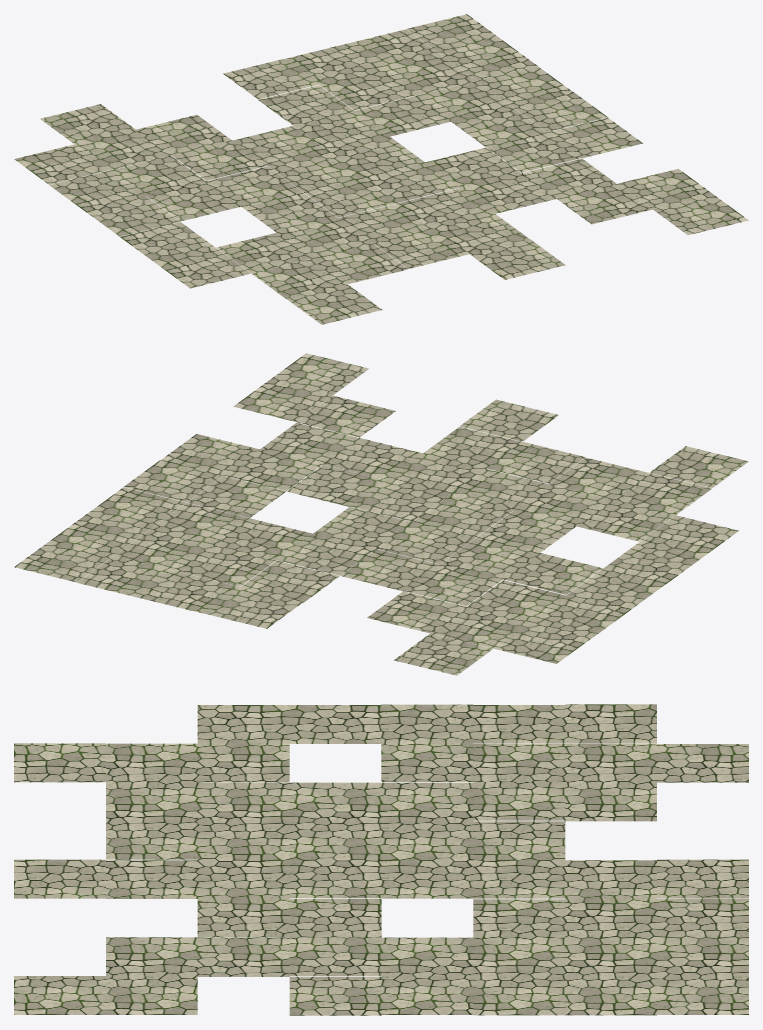
Rendered from ruin-paving.ruins-v1.lod0.glb.
The picture shows the model from 3 angles, top to bottom: view 1: azimuth 30°, elevation 25°; view 2: azimuth 150°, elevation 25°; view 3: azimuth 270°, elevation 25°; orthographic projection. The views are drawn at different scales.
Parts seen in each view (by area): view 1: ruin-paving; view 2: ruin-paving; view 3: ruin-paving.
Boxes of the visible parts, <box> form: ruin-paving: <box>14,14,748,324</box>; ruin-paving: <box>14,353,748,675</box>; ruin-paving: <box>14,704,748,1015</box>.
Size of the model in its own units: 20 by 0.0269 by 20.
1 material, 1 textured.
